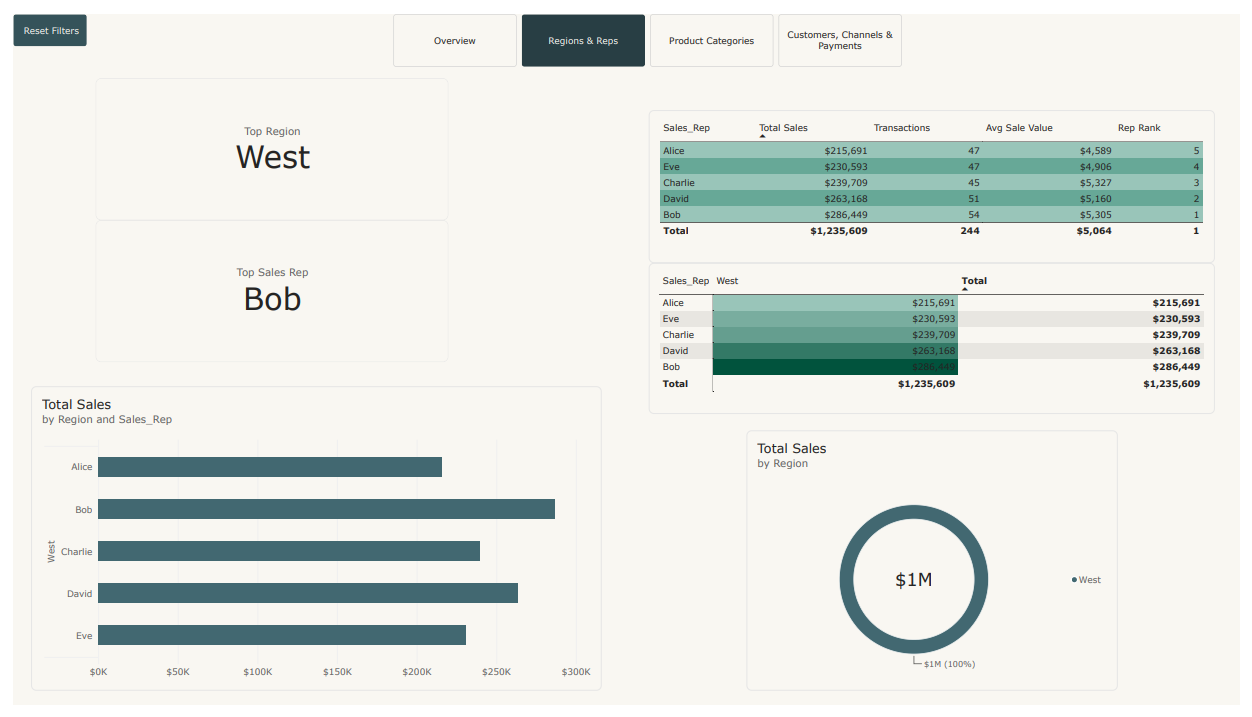

The page's visual inventory and layout, read from the dashboard file:
{"tool":"powerbi","page":{"name":"Regions & Reps","canvas":[1920,1080],"ordinal":1},"visuals":[{"type":"clusteredBarChart","fields":{"Category":["Sales.Region > Rep.Region","Sales.Region > Rep.Sales_Rep"],"Y":["Sales.Total Sales"]},"box":[28.5,582.2,892.7,476.1],"z":0},{"type":"pivotTable","fields":{"Columns":["Sales.Region"],"Rows":["Sales.Sales_Rep"],"Values":["Sales.Total Sales"]},"box":[994.9,389.4,886.3,235.5],"z":1000},{"type":"donutChart","fields":{"Category":["Sales.Region"],"Y":["Sales.Total Sales"]},"box":[1147.6,650.8,580.9,407.5],"z":2000},{"type":"tableEx","fields":{"Values":["Sales.Sales_Rep","Sales.Total Sales","Sales.Transactions","Sales.Avg Sale Value","Sales.Rep Rank"]},"box":[994.9,150.1,886.3,239.4],"z":3000},{"type":"cardVisual","fields":{"Data":["Sales.Top Sales Rep"]},"box":[129.4,322.2,552.5,222.5],"z":4000},{"type":"cardVisual","fields":{"Data":["Sales.Top Region"]},"box":[129.4,99.6,552.5,222.5],"z":5000},{"type":"pageNavigator","box":[595.1,0,799.6,82.8],"z":5001},{"type":"actionButton","box":[0,0,115.3,50.4],"z":5003}]}

Visuals, with their boxes in screenshot pixels (x1, y1, x2, y2), scaled from the page's 1920x1080 canvas onto the 1252x717 screenshot:
clusteredBarChart - Sales.Region > Rep.Region x Sales.Region > Rep.Sales_Rep: l=19, t=387, r=601, b=703
pivotTable - Sales.Region x Sales.Sales_Rep: l=649, t=259, r=1227, b=415
donutChart - Sales.Region x Sales.Total Sales: l=748, t=432, r=1127, b=703
tableEx - Sales.Sales_Rep x Sales.Total Sales: l=649, t=100, r=1227, b=259
cardVisual - Sales.Top Sales Rep: l=84, t=214, r=445, b=362
cardVisual - Sales.Top Region: l=84, t=66, r=445, b=214
pageNavigator: l=388, t=0, r=909, b=55
actionButton: l=0, t=0, r=75, b=33
